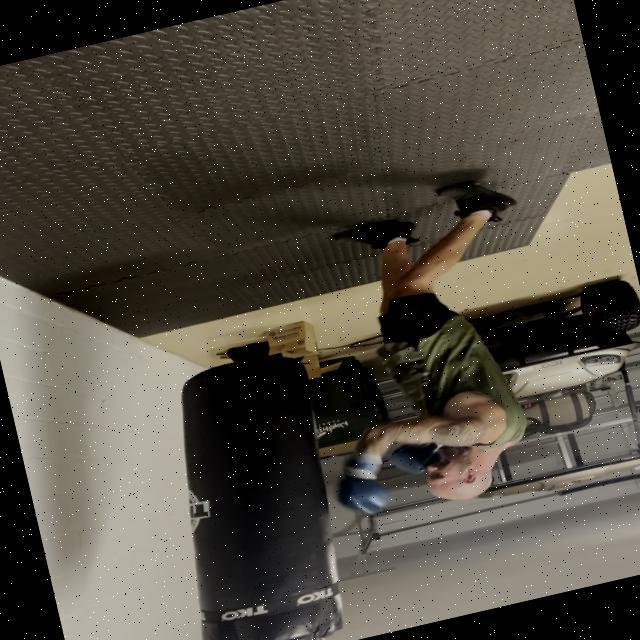bag: (147, 346, 355, 640)
uppercut: (316, 372, 560, 540)
